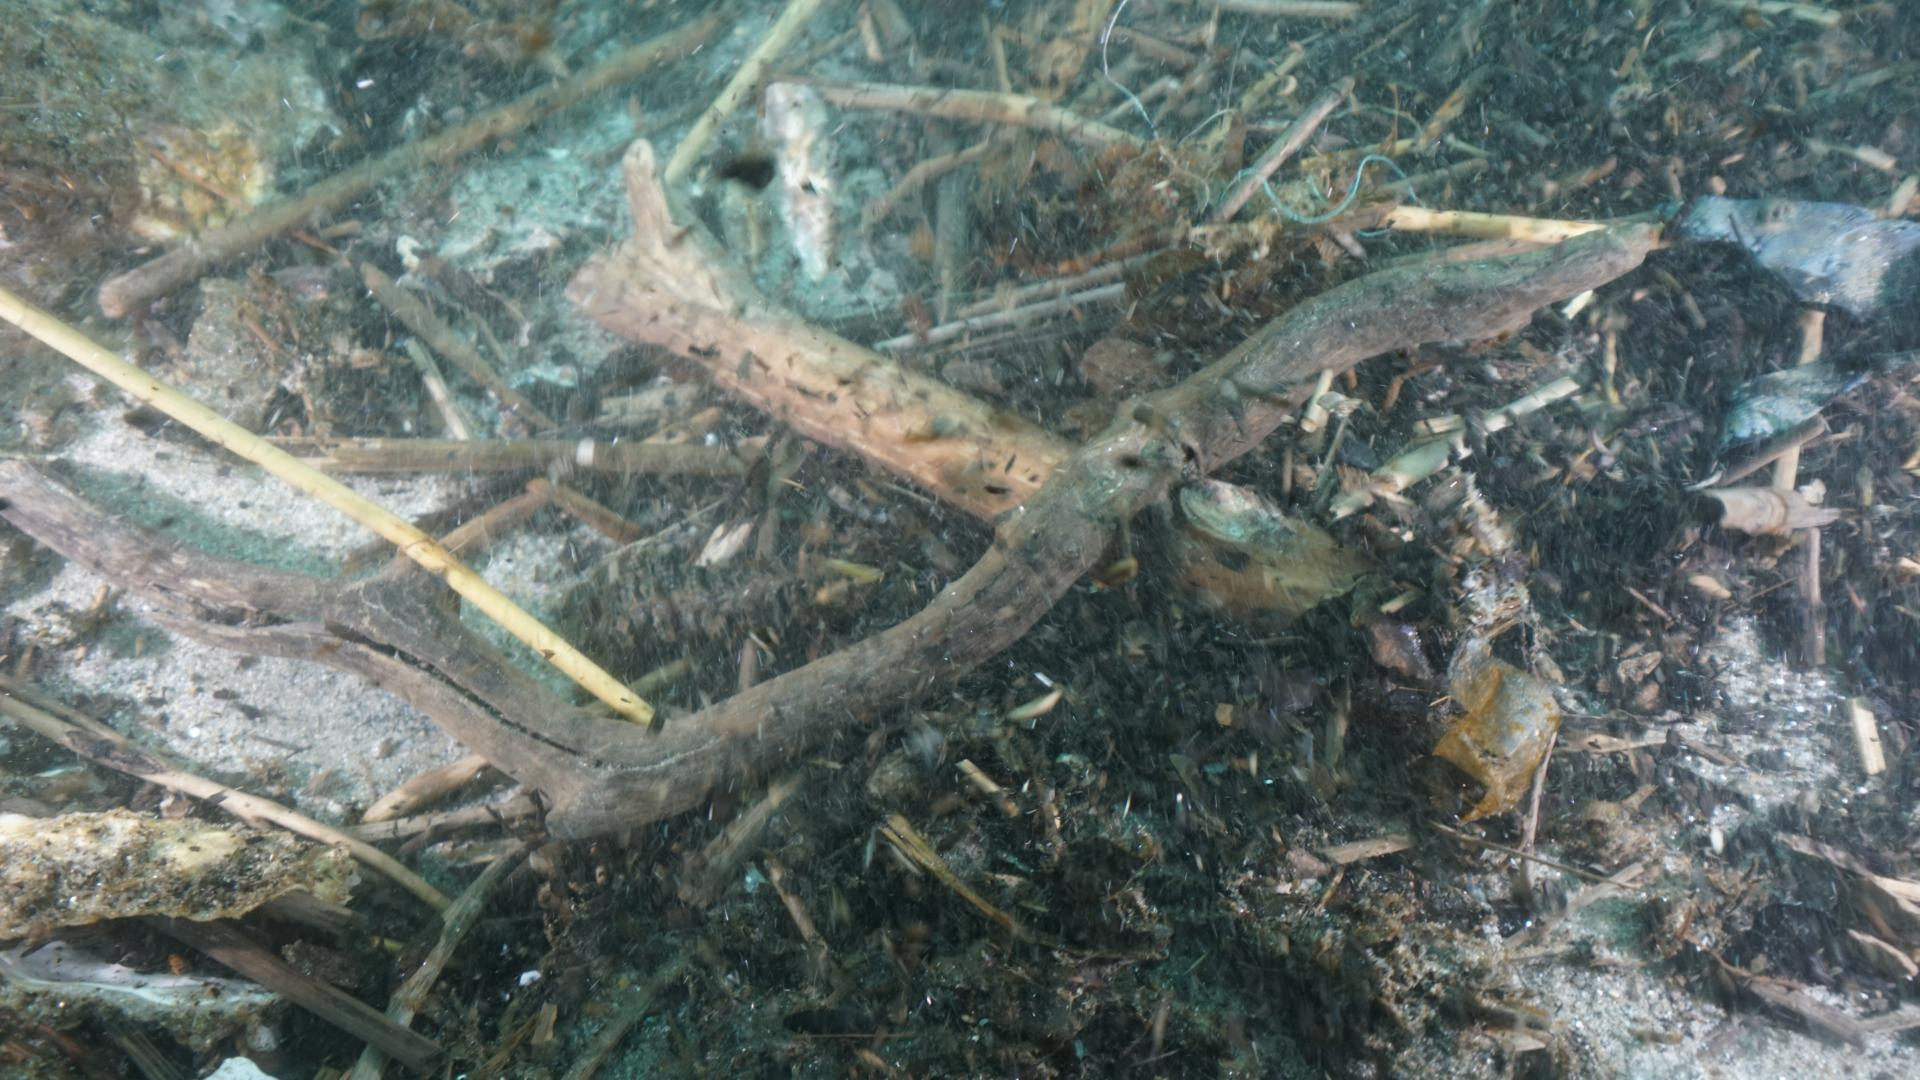wood: (542, 218, 1669, 839)
